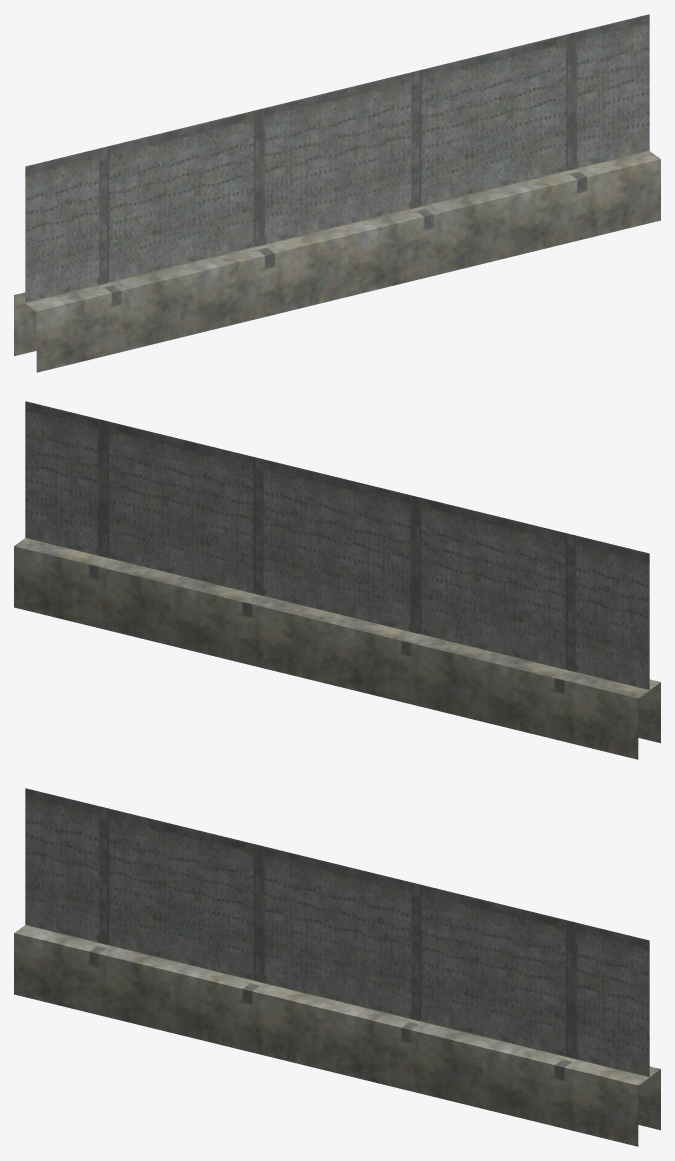
File: thm_corl_imprv_wall_4x16_s03_l2.fbx
3 views of the same model, one above another, from view 1: azimuth 30°, elevation 25°; view 2: azimuth 150°, elevation 25°; view 3: azimuth 330°, elevation 25° (orthographic).
Visible parts, largest first — view 1: mesh_node; view 2: mesh_node; view 3: mesh_node.
Boxes of the visible parts, x1,y1,x2,y2 form: mesh_node: (14, 14, 660, 372); mesh_node: (14, 401, 660, 759); mesh_node: (14, 788, 660, 1146).
Size of the model in its own units: 16 by 4.85 by 1.
Materials: 2 (2 with a texture image).
